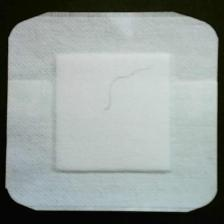Dressing: (3, 11, 223, 216)
F_Body: (98, 66, 160, 119)
